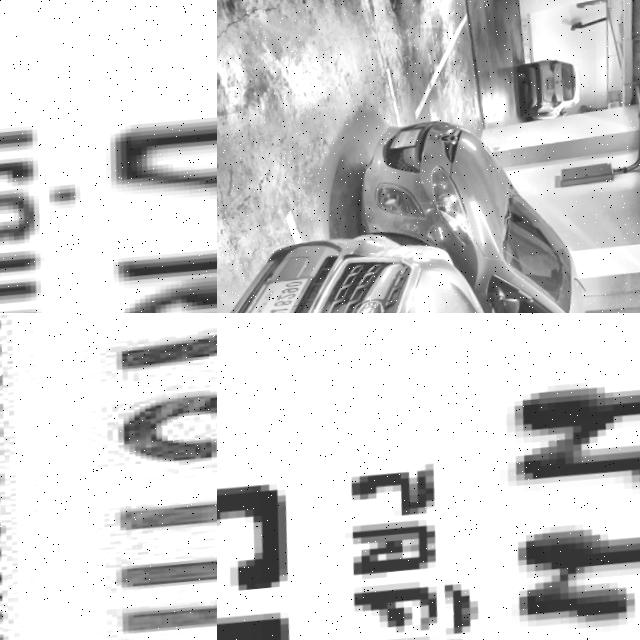license-plate: (217, 313, 640, 640), (0, 313, 217, 640), (0, 0, 217, 313), (221, 268, 322, 313), (387, 124, 428, 151), (547, 76, 558, 86)
